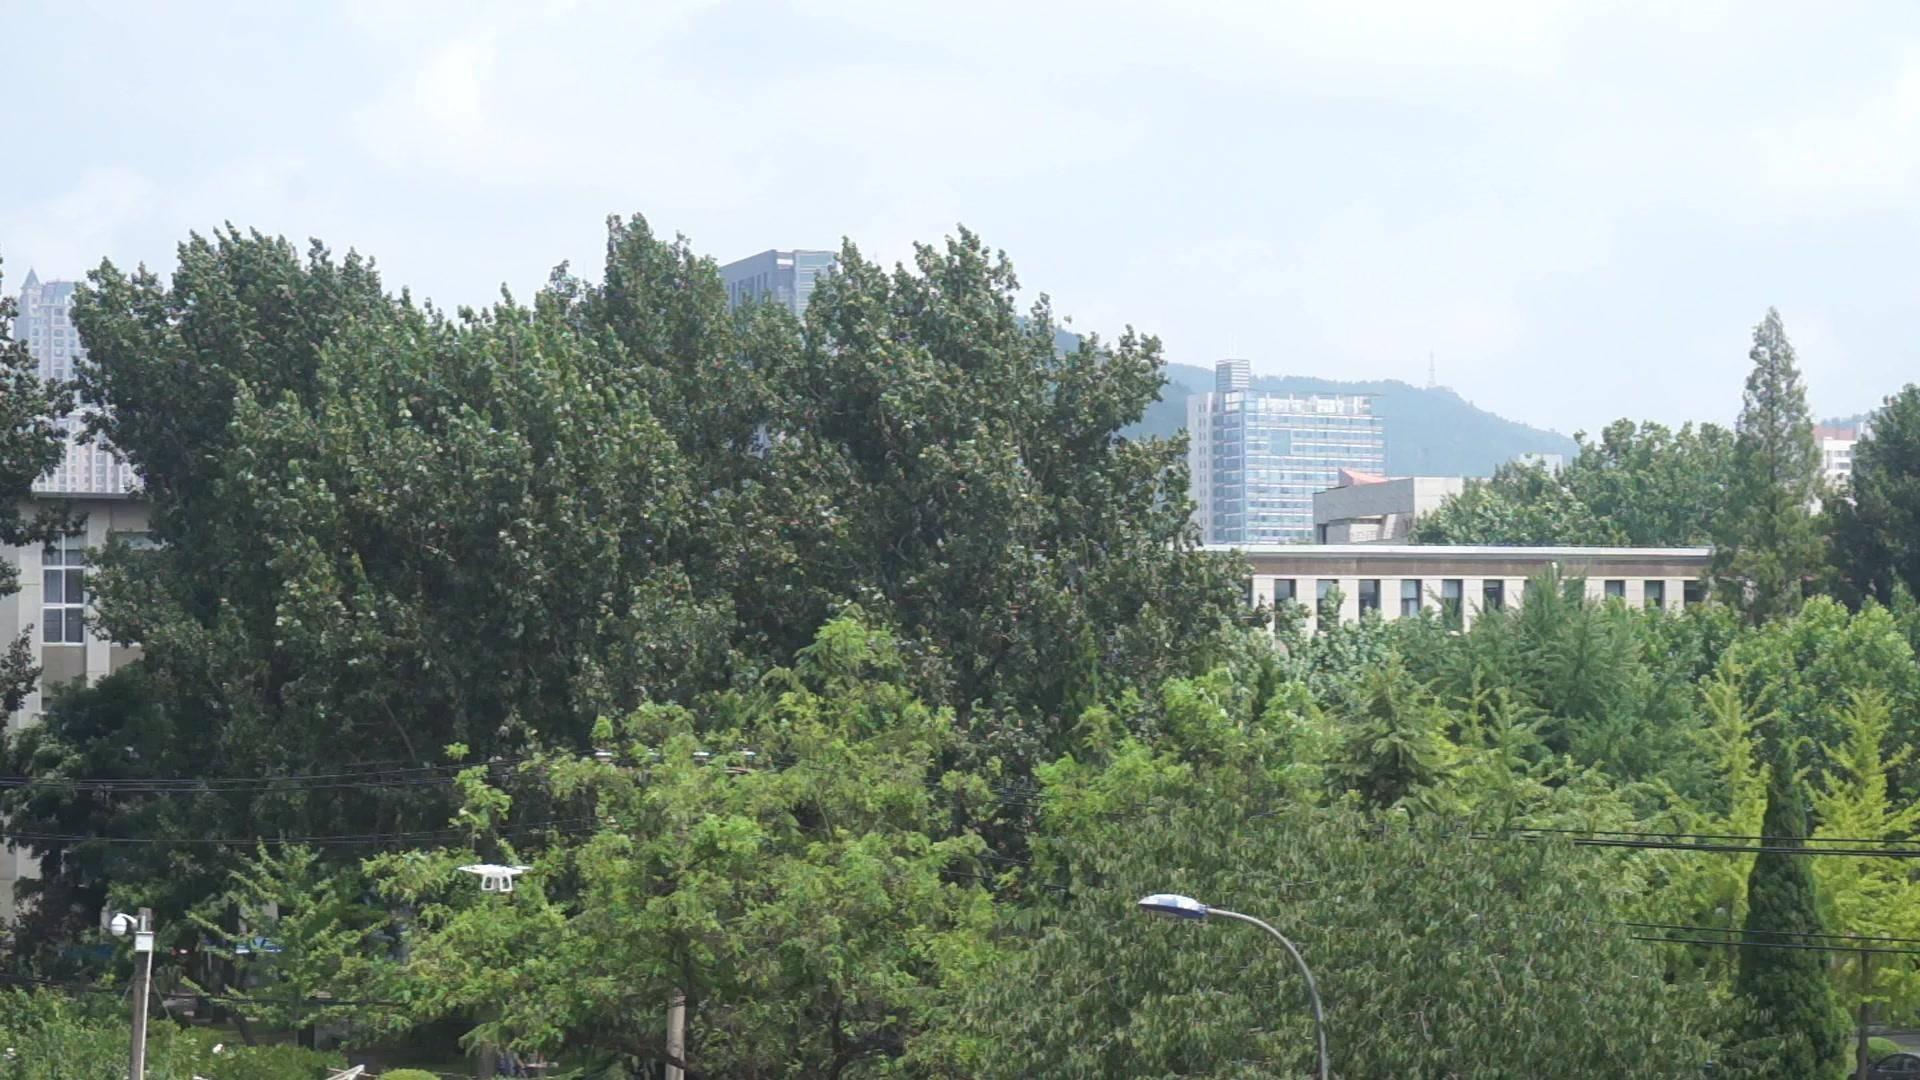UAV: (458, 865, 535, 893)
